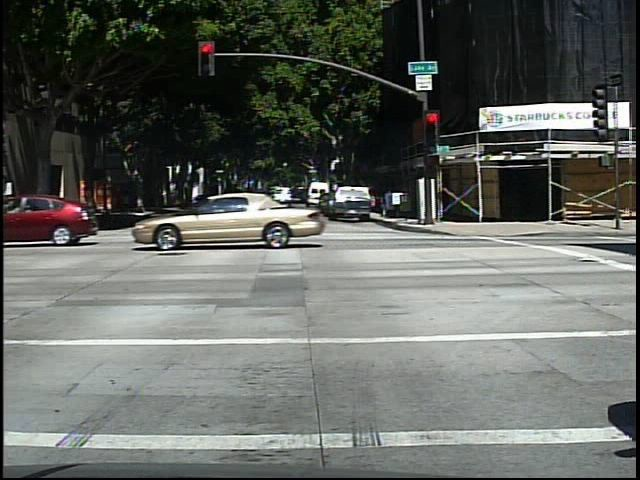person: (78, 184, 108, 237)
